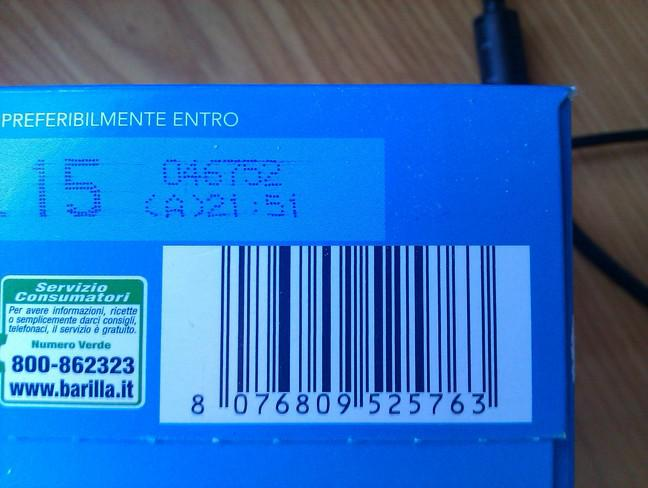Barkod: (159, 246, 530, 421)
